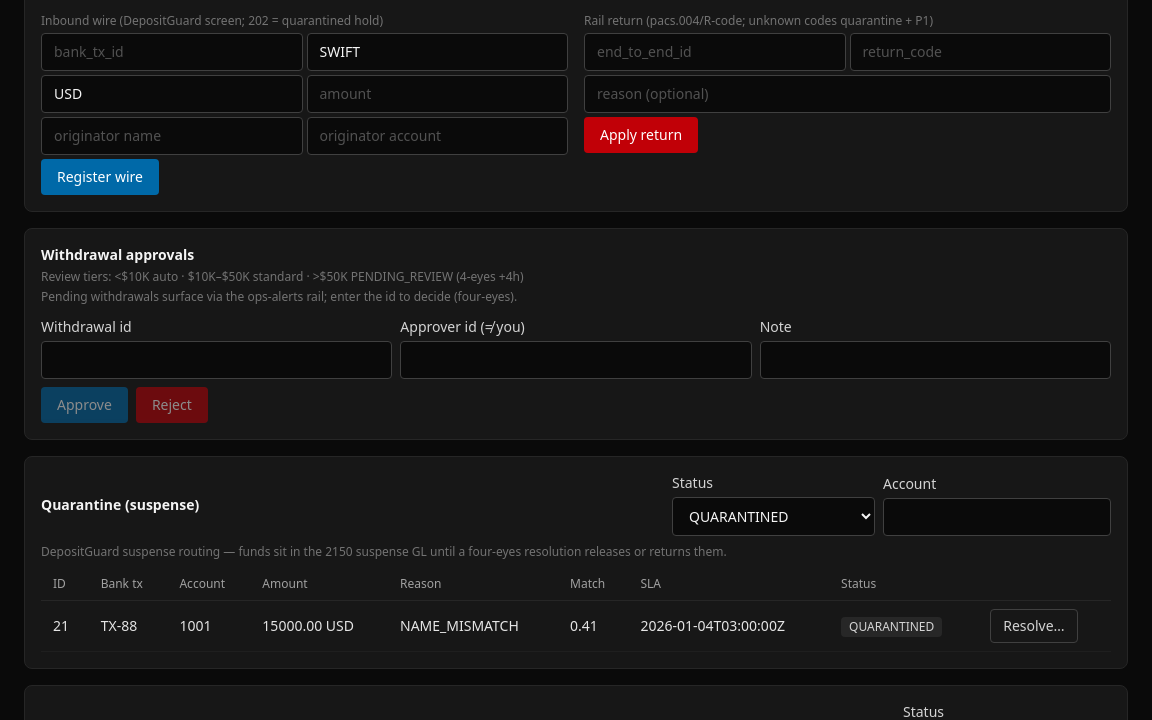
Test: FundingOpsPage › approves a withdrawal under four-eyes
(page scrolled)
Type "33" into the field labelled "Withdrawal id" at (217, 360), box [41,341,392,379]
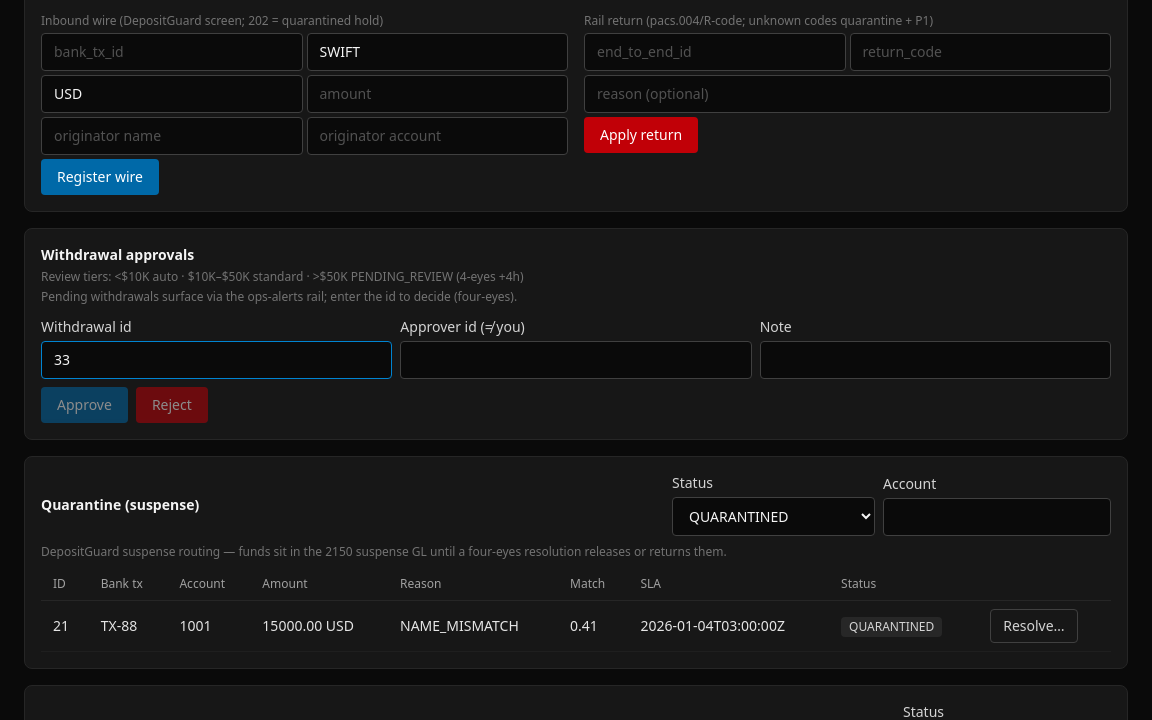
Type "88" into the field labelled "Approver id (≠ you)" at (576, 360), box [400,341,752,379]
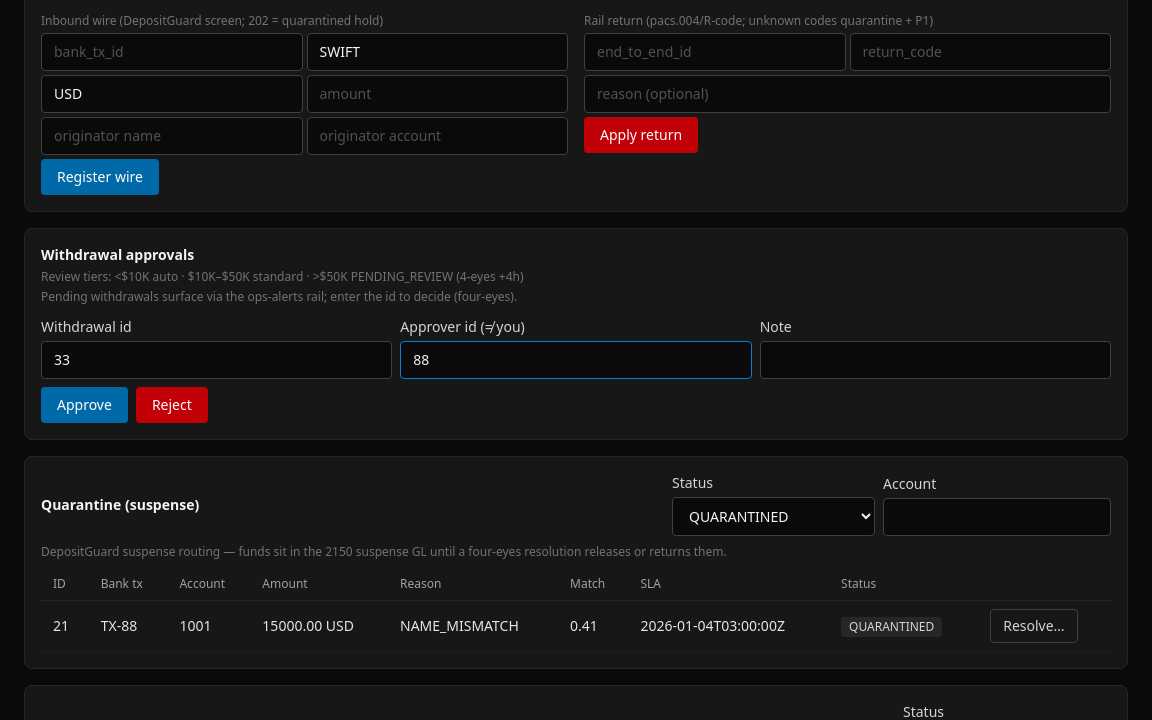
Click the button "Approve" at (84, 405), box [41,387,128,423]
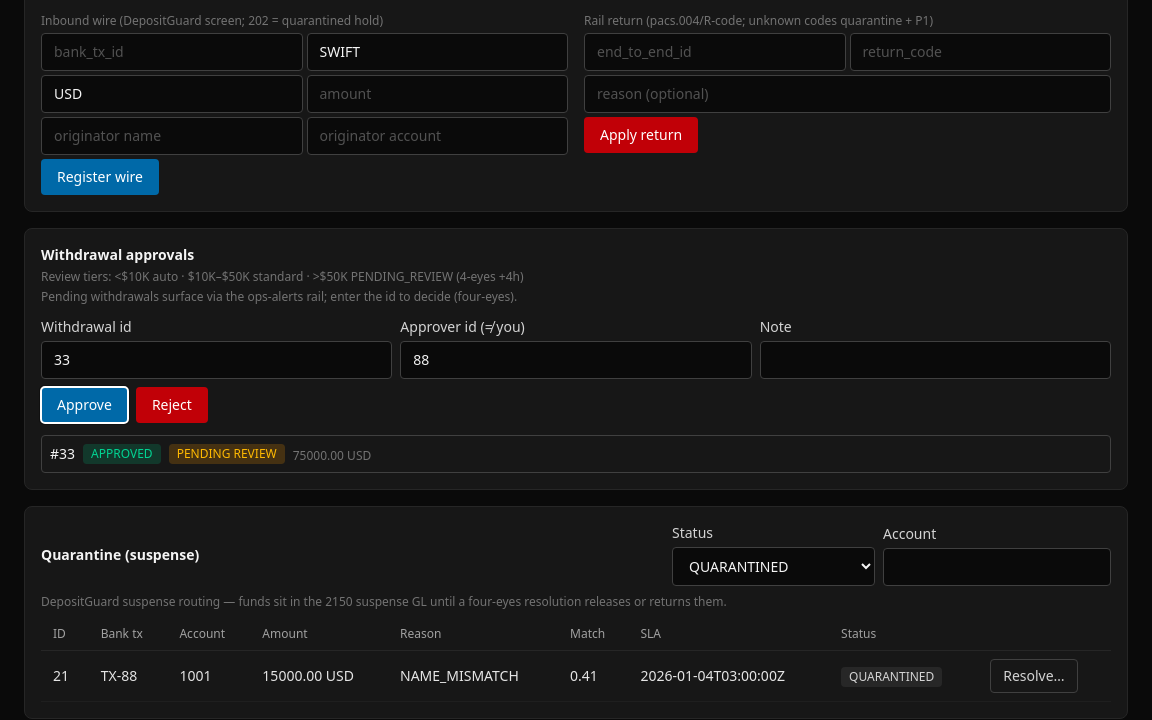
Check: the text "#33" is shown, box [50,444,75,464]
